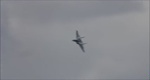maybay_muctieu: (72, 30, 87, 53)
